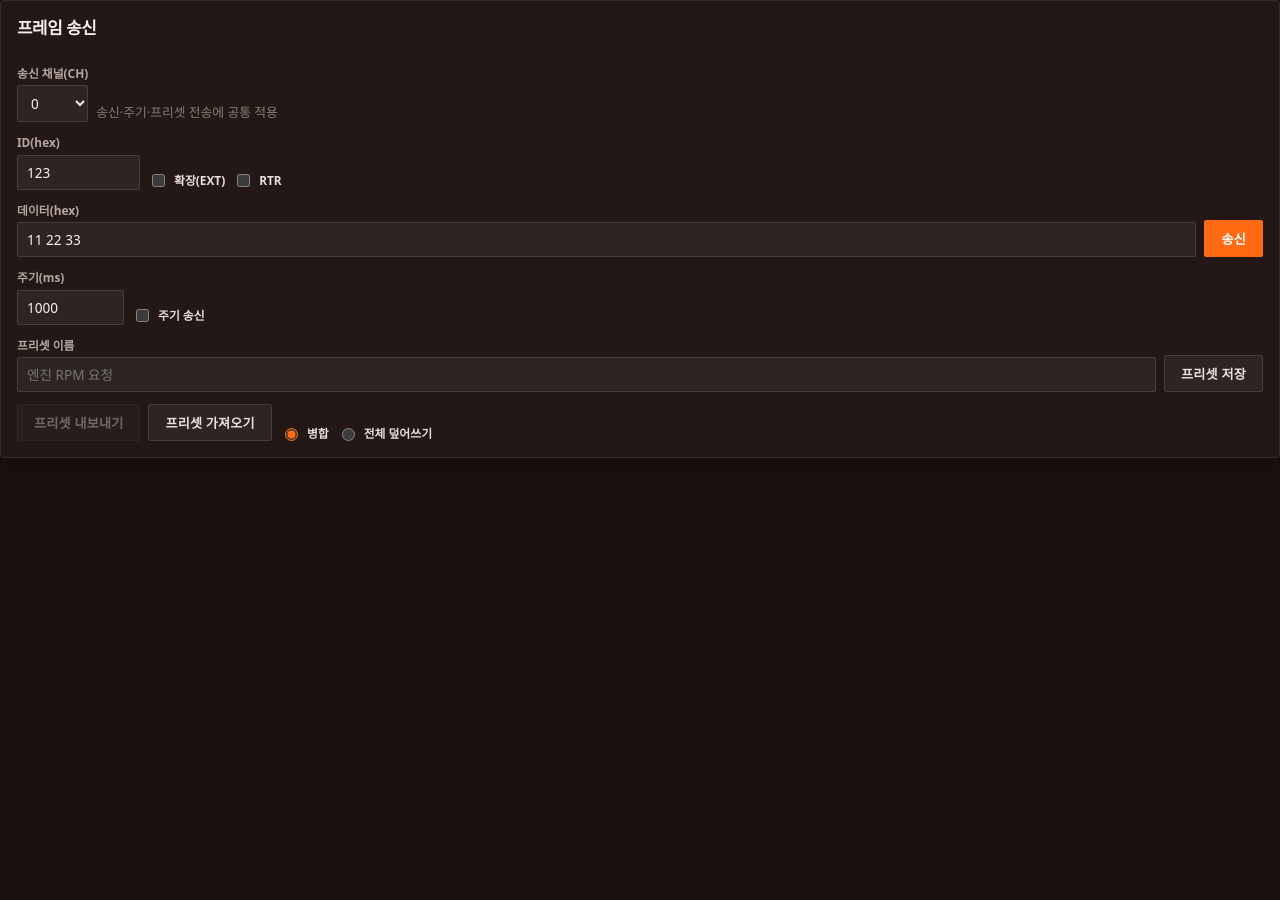
Test: 프리셋 저장 시 같은 이름 덮어쓰기 확인 › 같은 이름 저장 시 확인 배너를 띄우고, 확인 누르면 1개만 교체한다
The width and height of the screenshot is (1280, 900).
Replace the text in the field labelled "ID(hex)" with "7DF": (78, 172) [17,155,140,190]
In the field with placeholder "엔진 RPM 요청": (587, 375) [17,357,1156,392], type "공통"
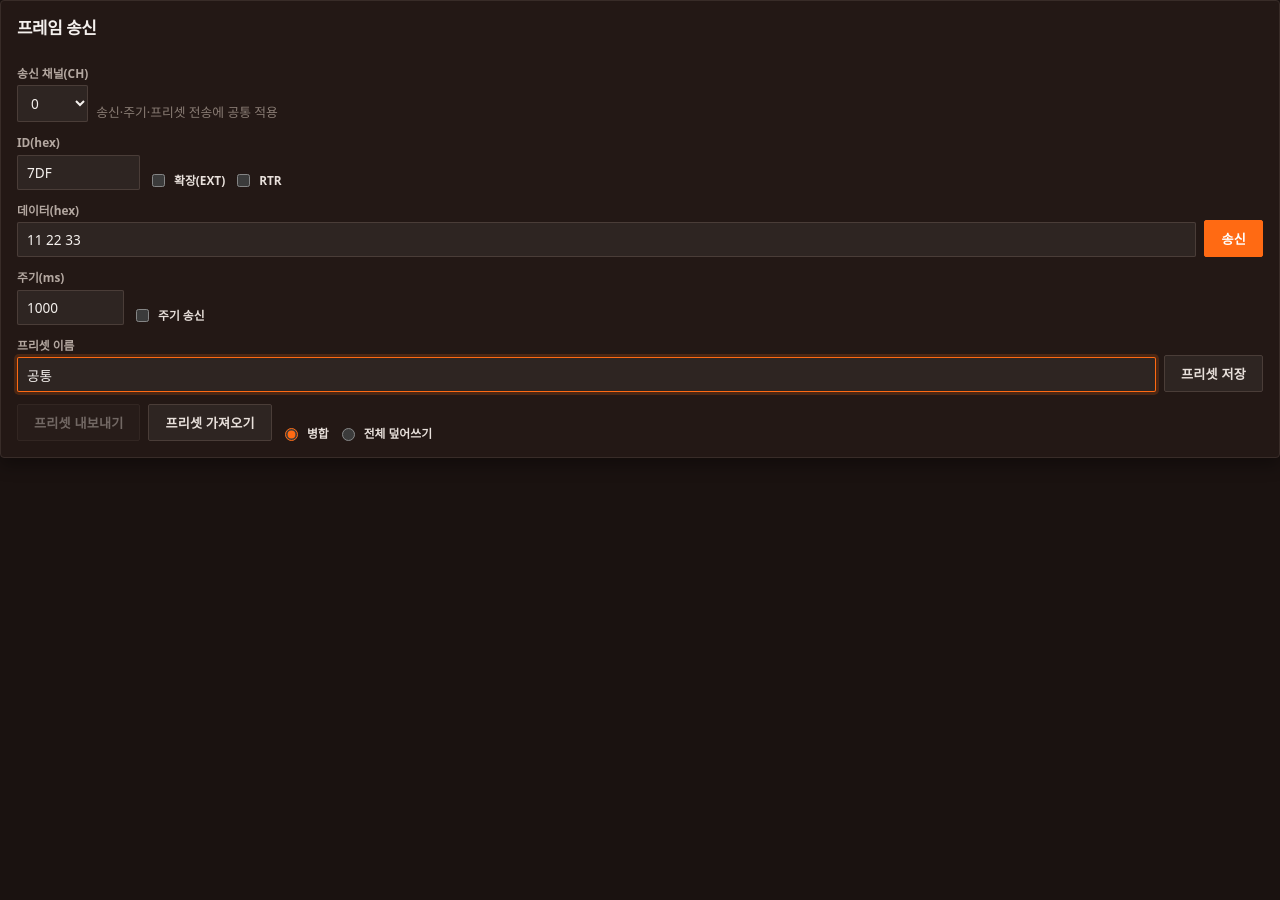
Click the button "프리셋 저장": (1214, 374) [1164,355,1263,392]
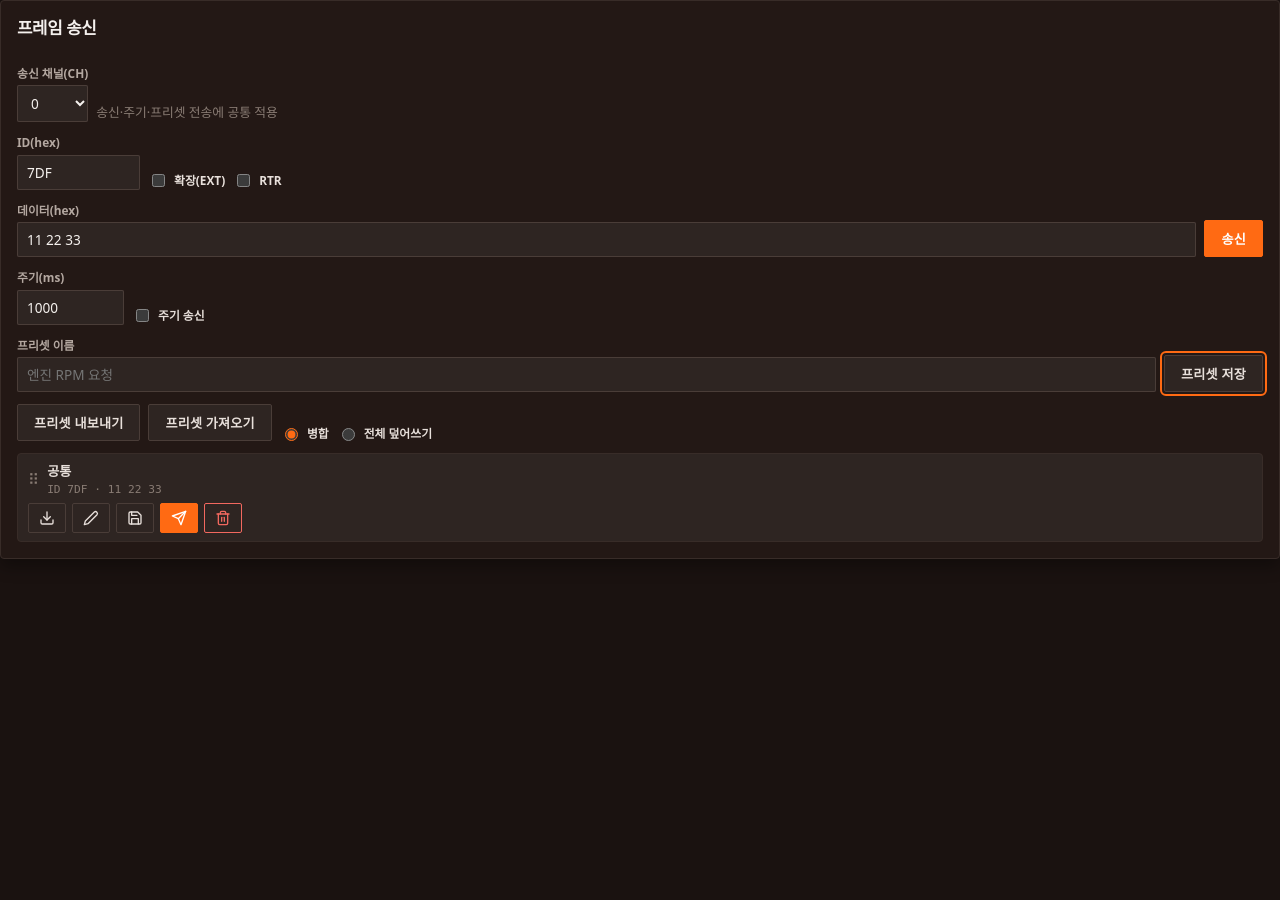
Replace the text in the field labelled "ID(hex)" with "555": (78, 172) [17,155,140,190]
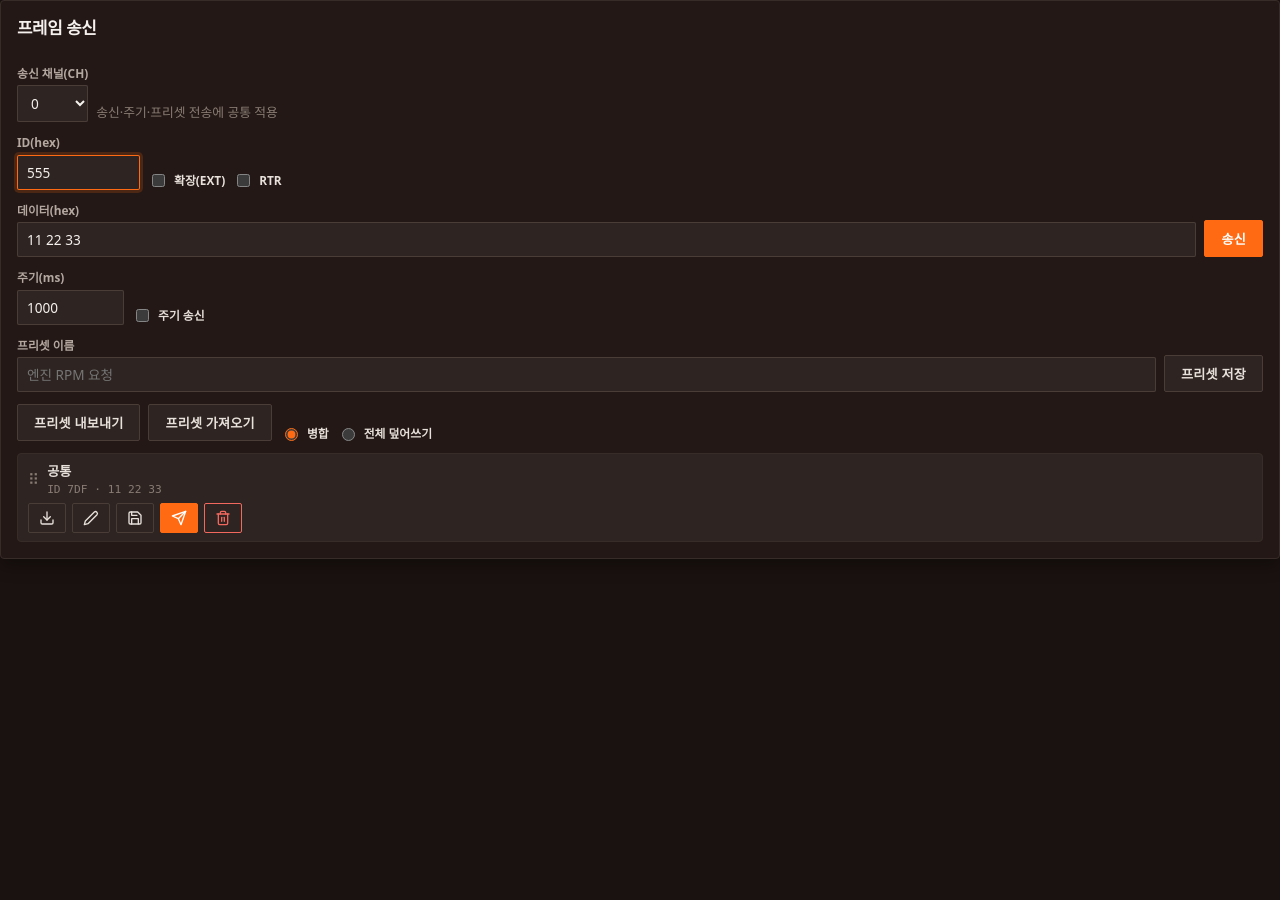
In the field with placeholder "엔진 RPM 요청": (587, 375) [17,357,1156,392], type "공통"
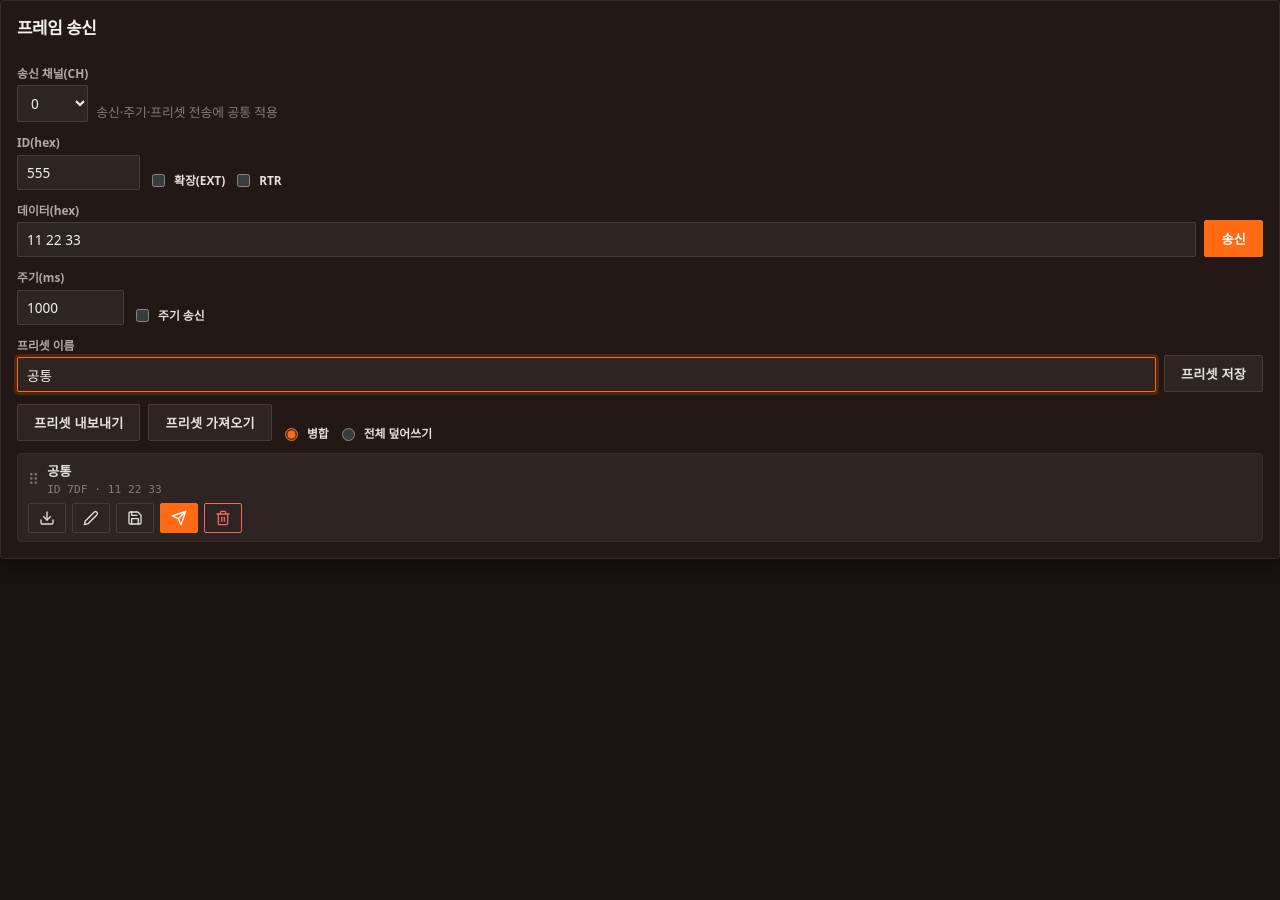
Click the button "프리셋 저장": (1214, 374) [1164,355,1263,392]
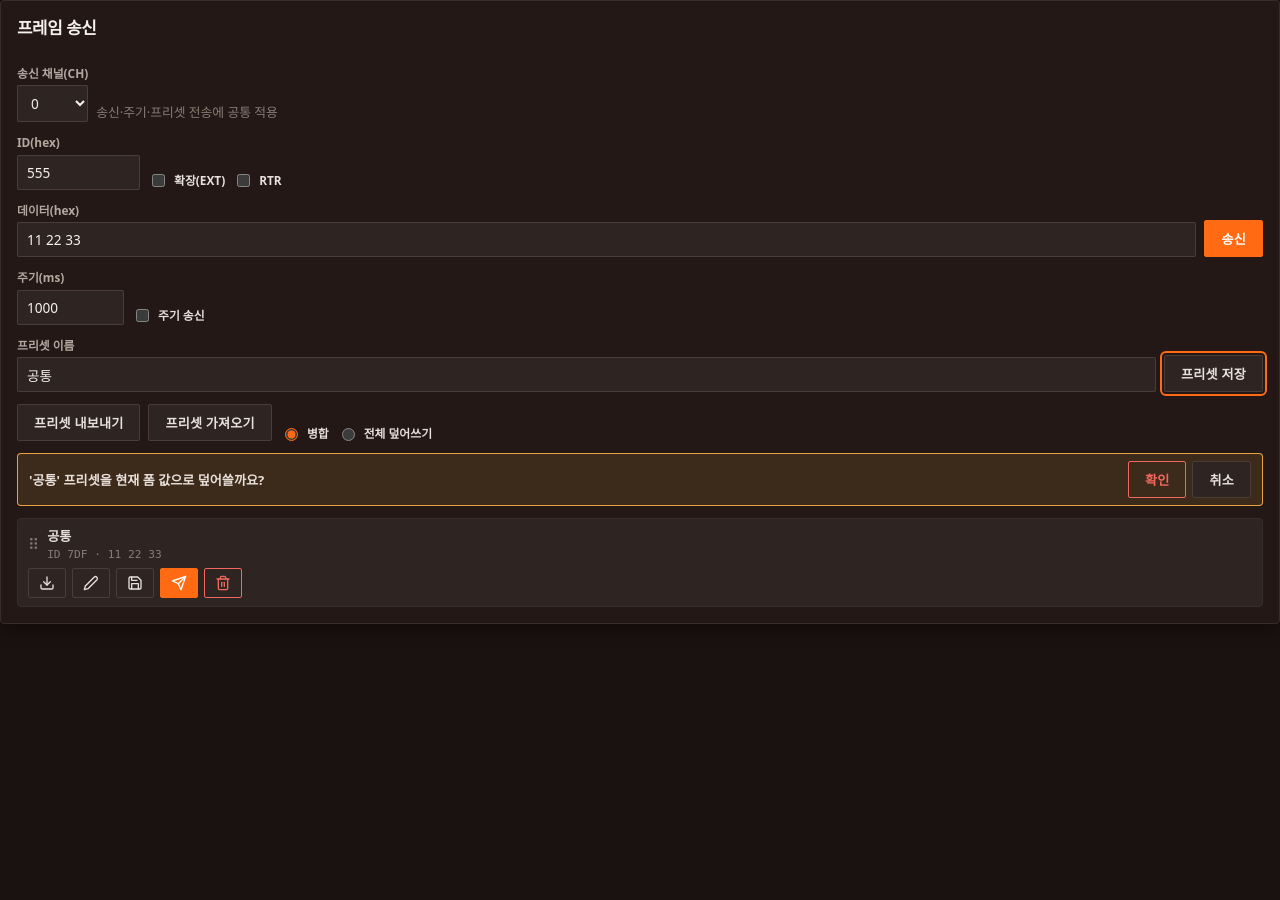
Check: the dialog shows "'공통'", box [29,471,264,489]
Click the button "확인": (1157, 480) [1128,461,1186,498]
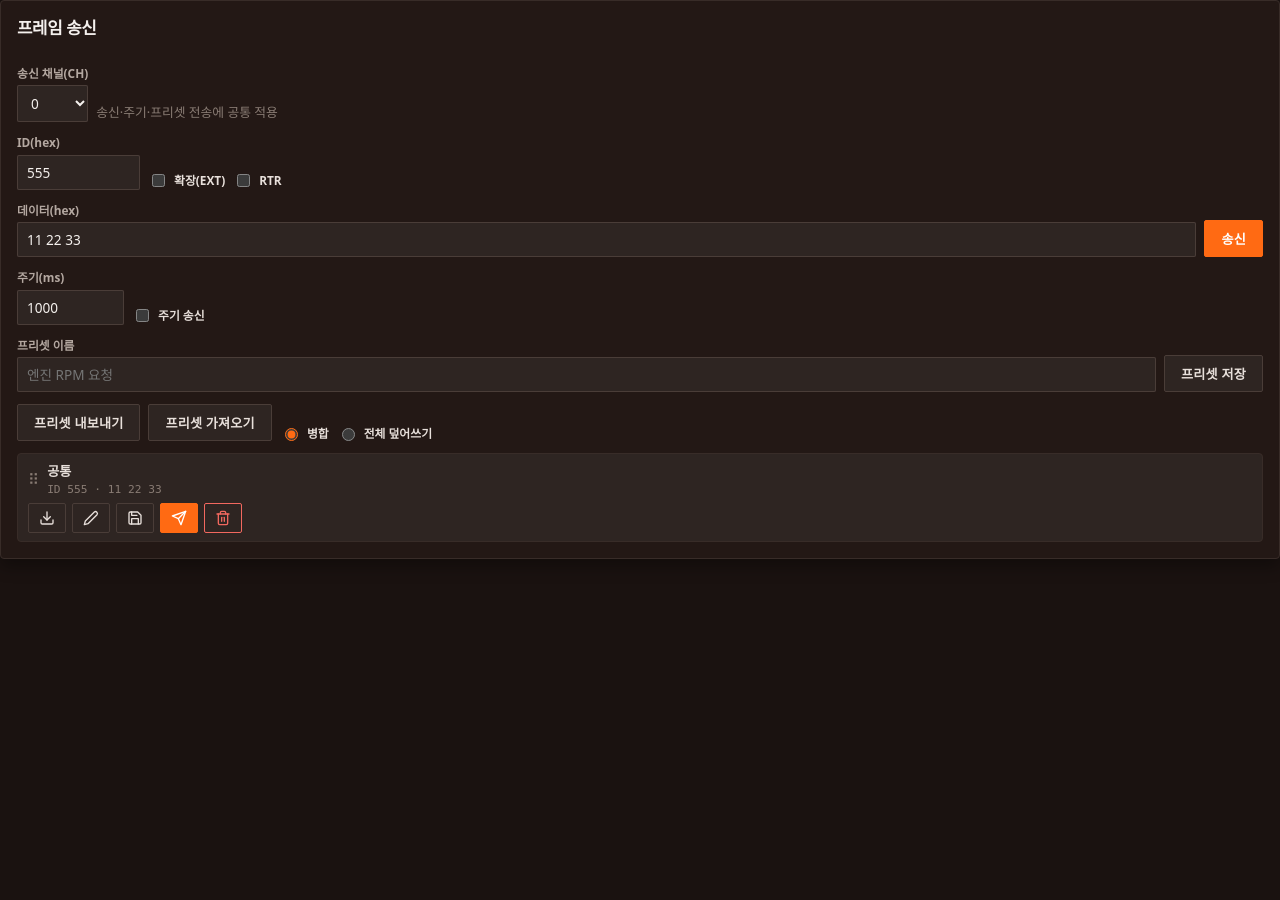
Check: the text "공통" is shown once, box [47,462,71,480]
Check: the dialog is gone
